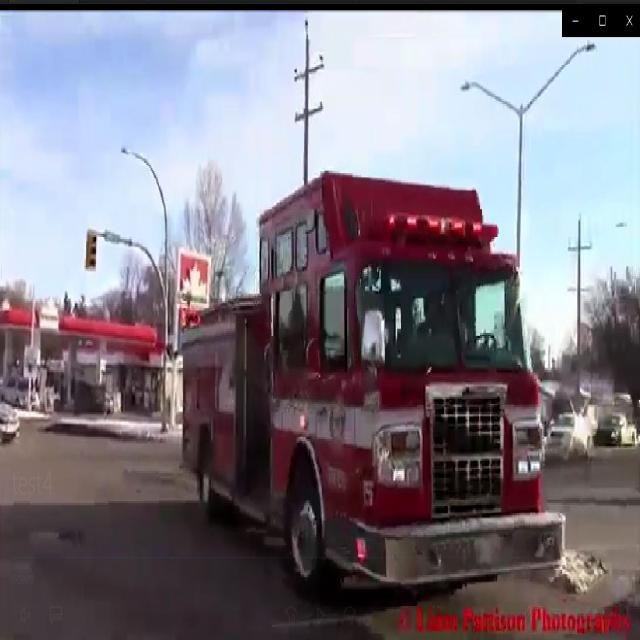emergency: (179, 161, 567, 614)
